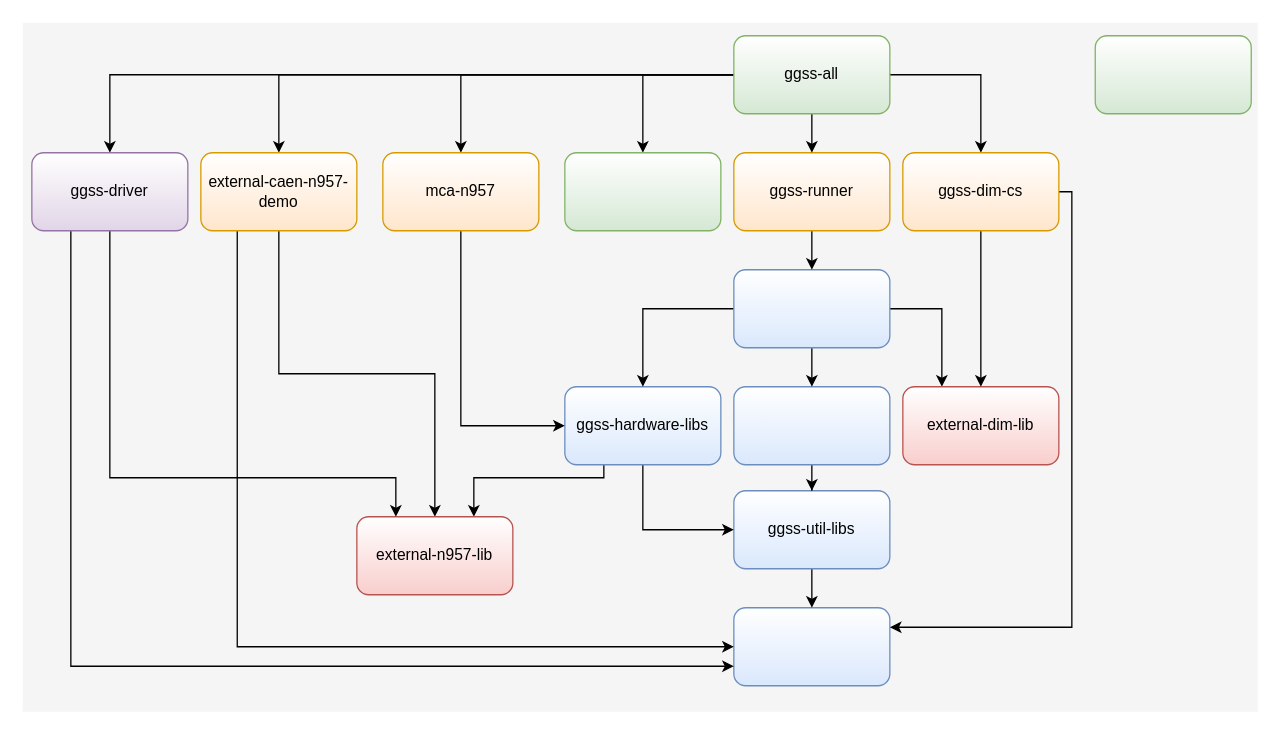
This 1279x733 diagram has some shape labels left out. The shapes that lost their labels are listed below. From the top down, each one's centre as x and y in pixels, then its label:
At (1172,74): "aux".
At (642,191): "ggss-oper".
At (811,308): "ggss-lib".
At (811,425): "ggss-software-libs".
At (811,646): "ggss-misc".
